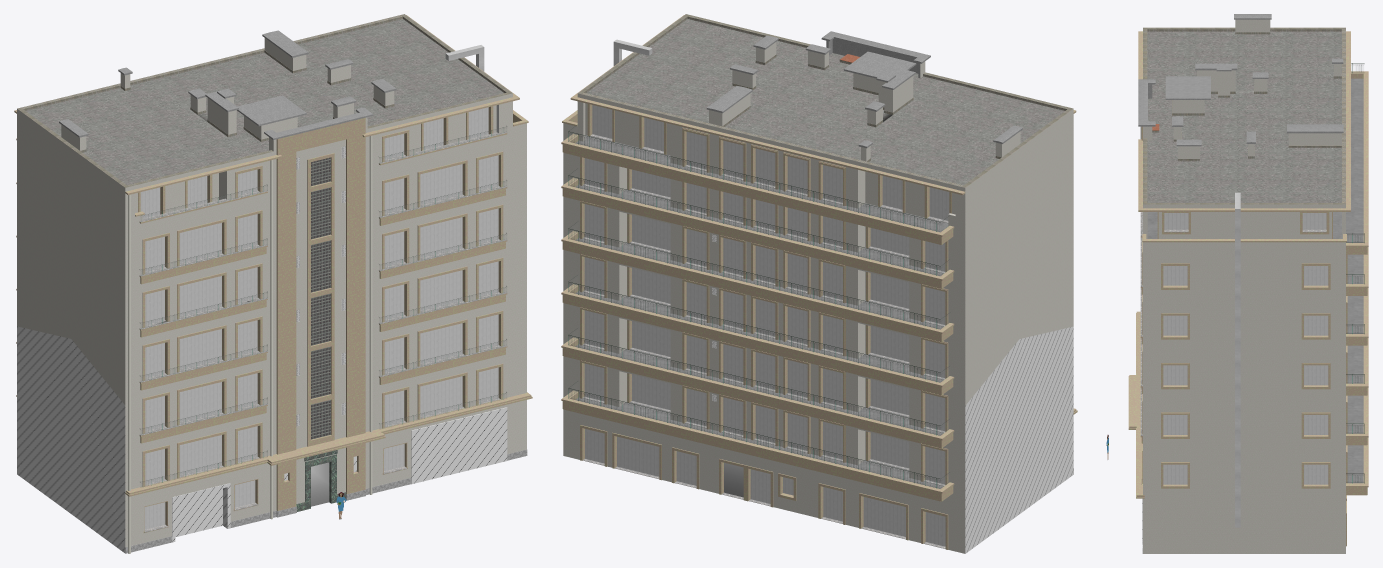
File: blender_convert_leCarthageNice.glb
3 renders of one model, left to right at view 1: azimuth 30°, elevation 25°; view 2: azimuth 150°, elevation 25°; view 3: azimuth 270°, elevation 25°, orthographic. The views are drawn at different scales.
Visible parts, largest first — view 1: _(Loose Entity); view 2: _(Loose Entity); view 3: _(Loose Entity).
Boxes of the visible parts, <box> form: _(Loose Entity): <box>14,14,532,553</box>; _(Loose Entity): <box>561,14,1077,553</box>; _(Loose Entity): <box>1106,14,1368,553</box>.
Size of the model in its own units: 27.3 by 25.2 by 16.23.
Materials: 35 (17 with a texture image).
